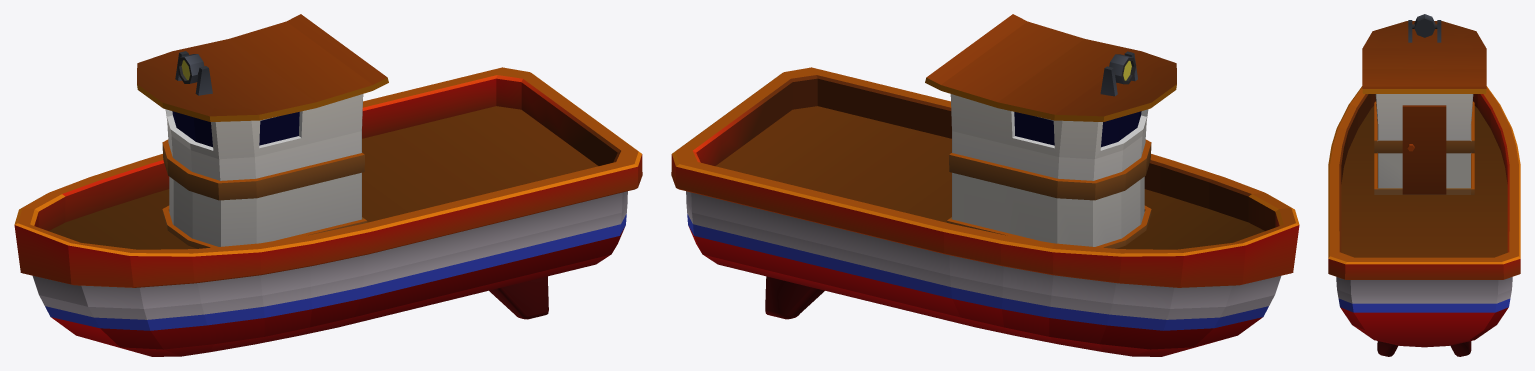
File: BigBout.fbx
3 views of the same model, side by side, from view 1: azimuth 30°, elevation 25°; view 2: azimuth 150°, elevation 25°; view 3: azimuth 270°, elevation 25° (orthographic). The views are drawn at different scales.
Parts seen in each view (by area): view 1: BigBout; view 2: BigBout; view 3: BigBout.
Part boxes in pixels (box(x1,y1,x2,y2)): BigBout: box(14, 14, 642, 356); BigBout: box(671, 14, 1299, 356); BigBout: box(1328, 14, 1520, 356).
Bounding box in the file's own units: 935 × 497 × 381.
